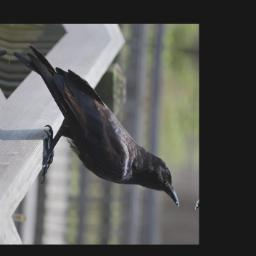Crow: (4, 41, 190, 208)
